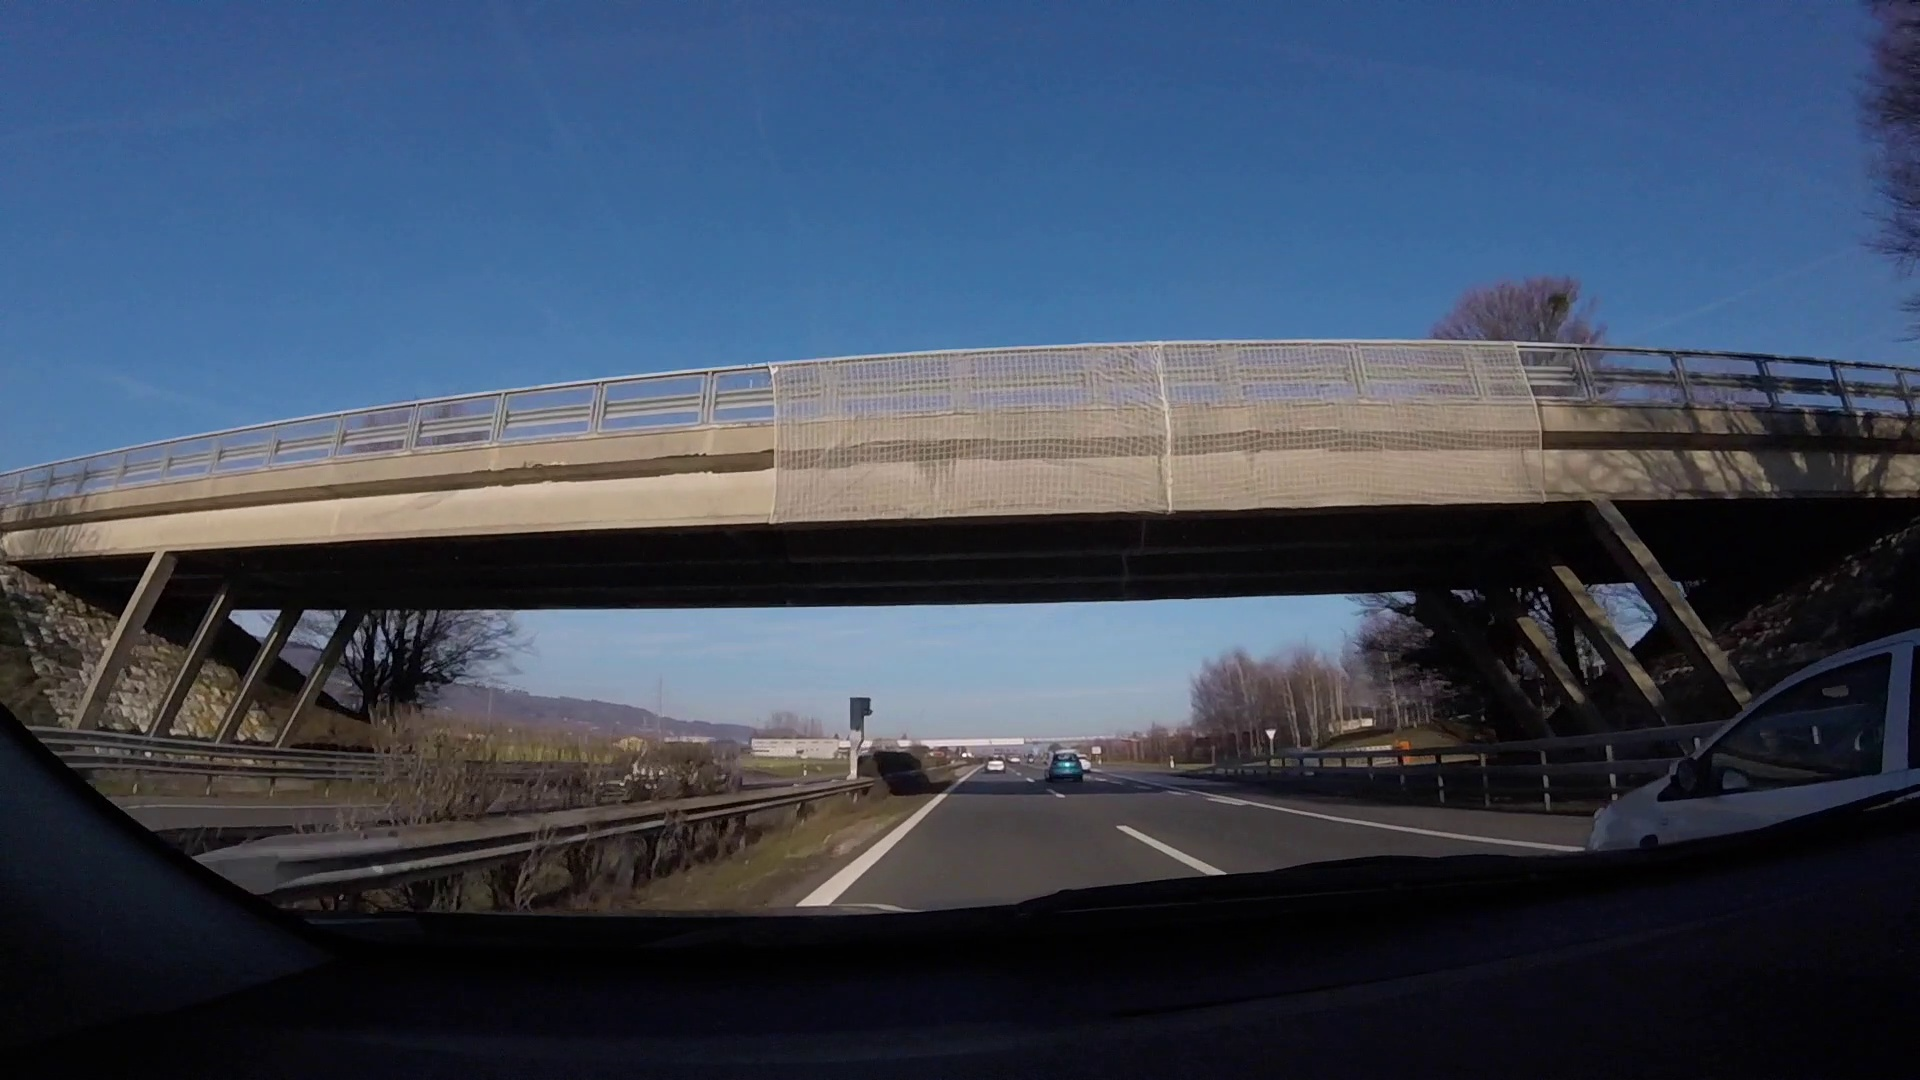radar: (849, 695, 876, 781)
